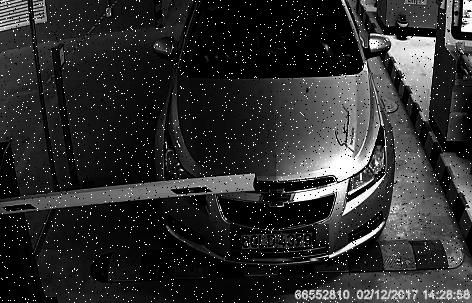License-plate: (231, 226, 330, 262)
